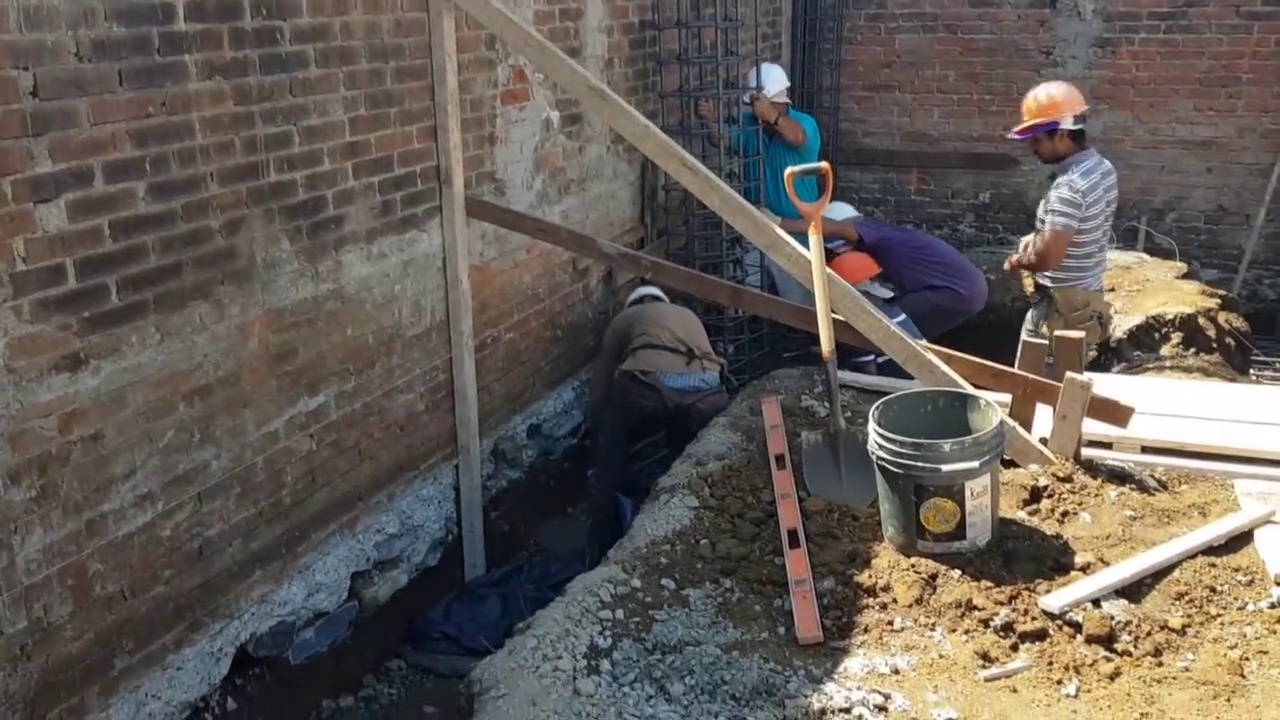helmet: (1003, 80, 1090, 145), (825, 251, 882, 287), (743, 62, 790, 103), (624, 280, 670, 308), (822, 201, 864, 228)
helmet-on: (1007, 82, 1100, 168), (825, 249, 883, 304), (742, 61, 791, 123), (620, 279, 671, 311)
person: (1002, 82, 1116, 385), (576, 278, 725, 499), (817, 198, 986, 344), (728, 62, 824, 278), (825, 246, 935, 379)
